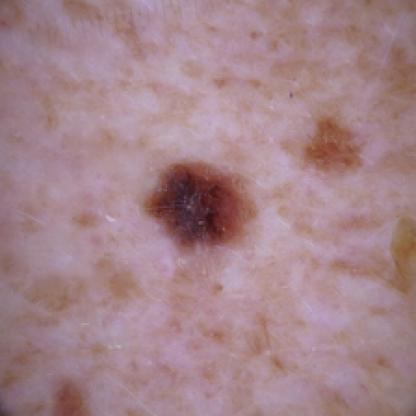benign: (146, 150, 264, 252)
